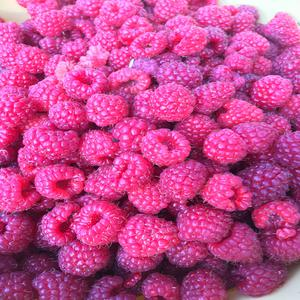raspb: (8, 27, 264, 158)
